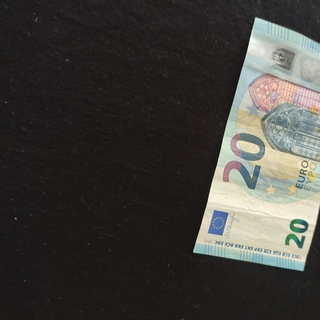20EUROFront: (191, 16, 320, 273)
